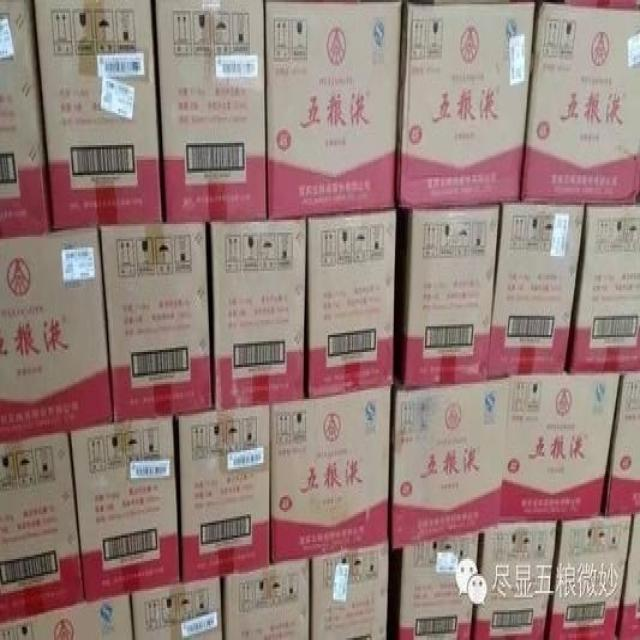box: (265, 3, 401, 221), (33, 3, 162, 232), (394, 1, 535, 209), (153, 3, 266, 224), (0, 228, 114, 446), (521, 4, 639, 205), (100, 225, 212, 423), (389, 369, 511, 550), (269, 385, 391, 565), (71, 418, 179, 602), (394, 205, 500, 391), (210, 220, 306, 410), (501, 373, 621, 524), (173, 407, 269, 584), (307, 214, 398, 399), (488, 204, 585, 377), (0, 433, 84, 625), (565, 203, 639, 374), (0, 1, 53, 239), (546, 517, 634, 638), (475, 520, 559, 638), (395, 533, 481, 638), (310, 544, 389, 638), (223, 560, 310, 638), (0, 594, 131, 638), (601, 372, 639, 517), (130, 579, 222, 638), (618, 516, 639, 638)
